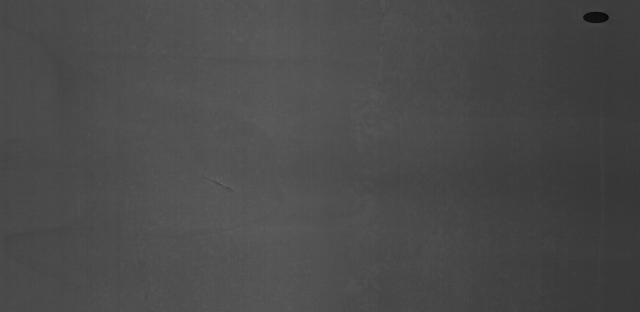punching_hole: (580, 8, 614, 27)
rolled_pit: (196, 173, 236, 194)
